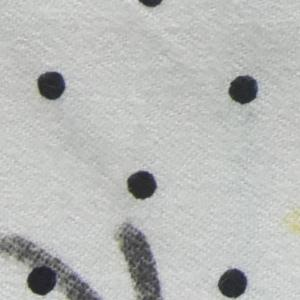Stain: (1, 227, 104, 300), (117, 222, 165, 300)
